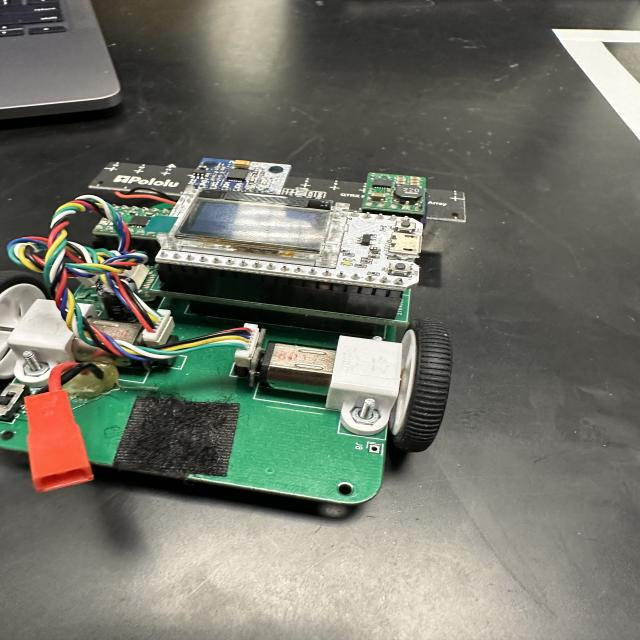robot: (1, 157, 465, 519)
